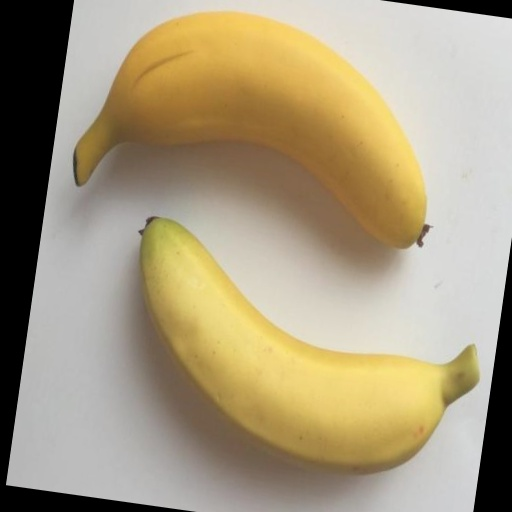fruit: (140, 218, 478, 473), (73, 12, 425, 247)
